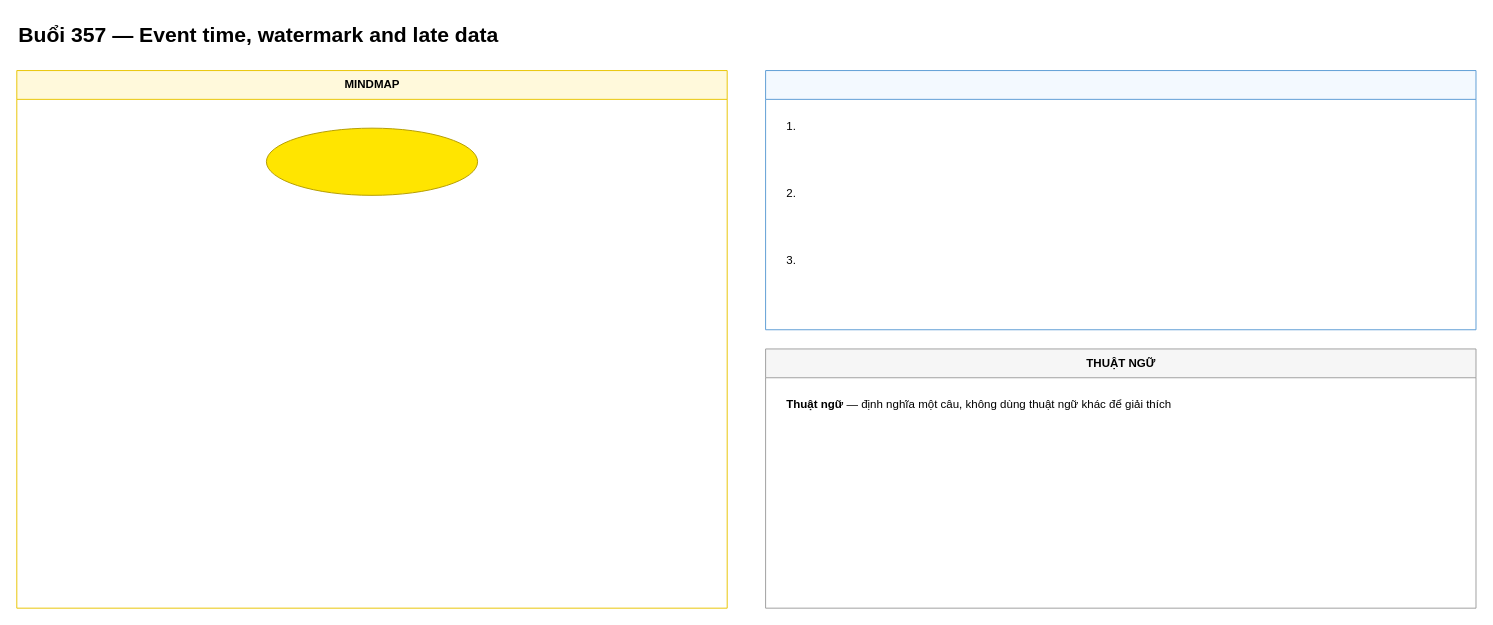
This 1493x625 diagram has some shape labels left out. The shapes that lost their labels are listed below. From the top down, each one's box as (x1, y1, x2, y2) in pixels, then its label:
(265, 127, 478, 195): Event time, watermark and late data
(765, 70, 1476, 330): KEY TAKEAWAY — ba điều phải nhớ
